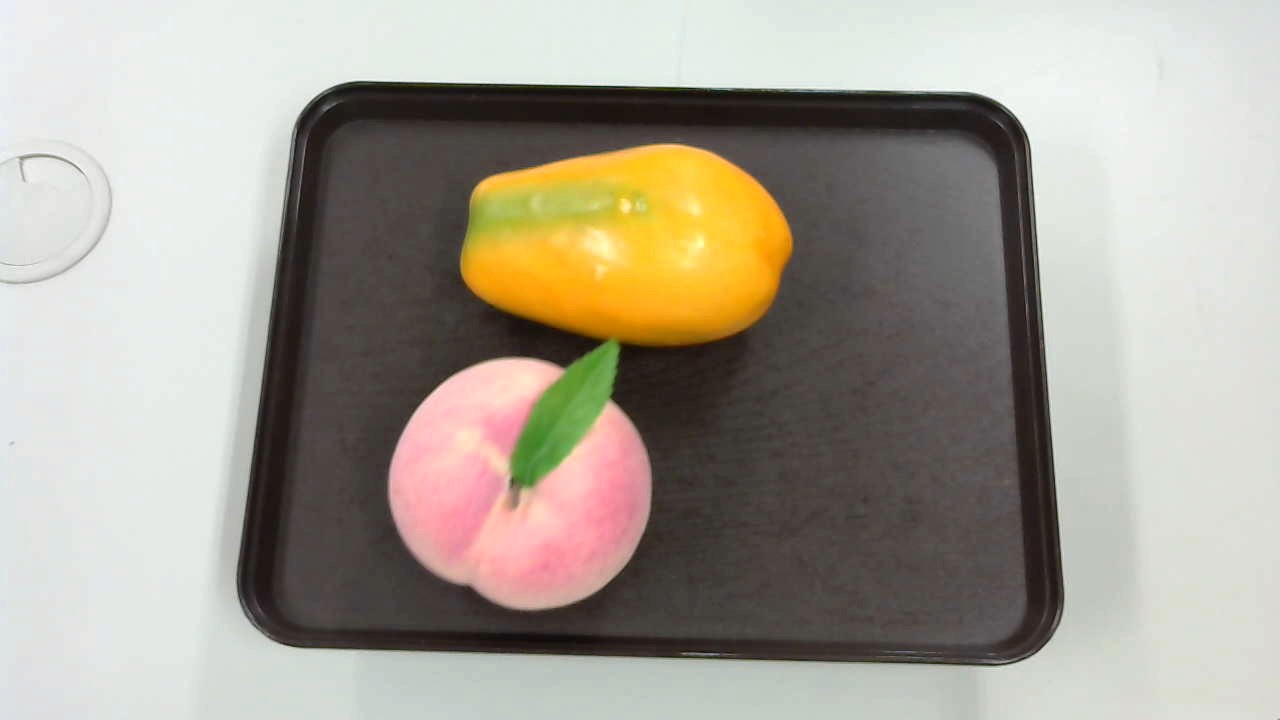papya: (456, 135, 793, 356)
peach: (386, 342, 656, 607)
